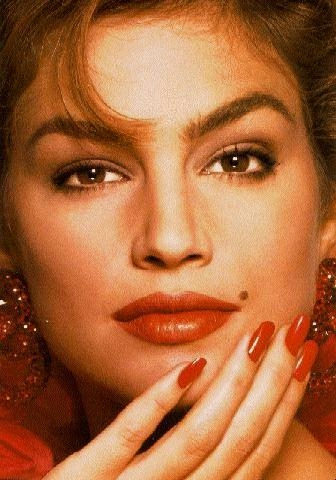mole: (235, 286, 252, 304)
